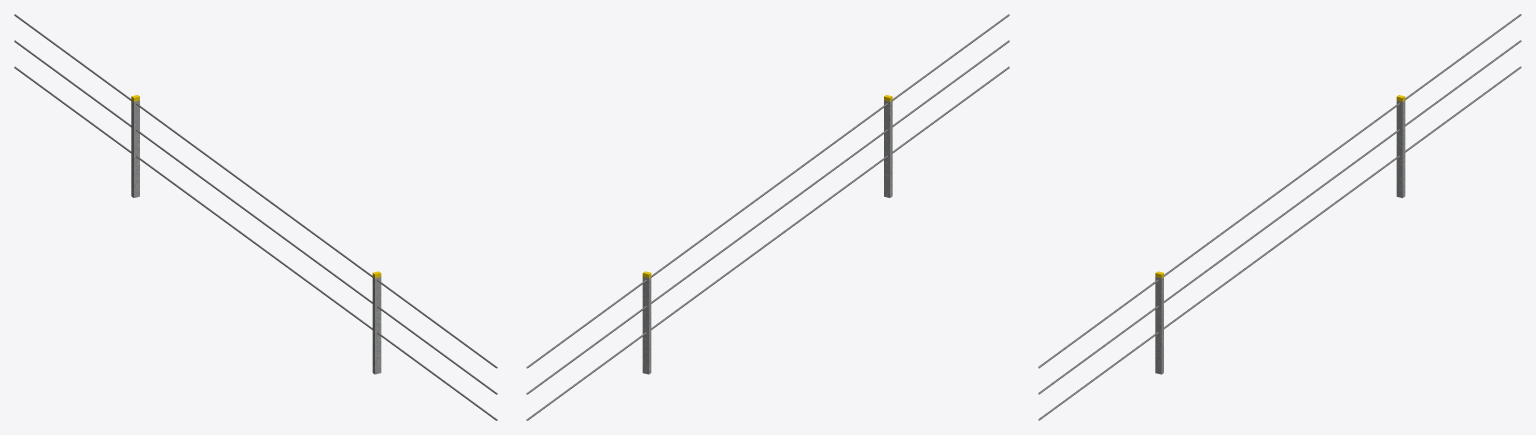
Rendered from GSDCableBarrier-Light.fbx.
The picture shows the model from 3 angles, left to right: view 1: azimuth 30°, elevation 25°; view 2: azimuth 150°, elevation 25°; view 3: azimuth 330°, elevation 25°; orthographic projection.
Visible parts, largest first — view 1: GSDCableBarrier-Light; view 2: GSDCableBarrier-Light; view 3: GSDCableBarrier-Light.
Boxes of the visible parts, left/top/right/bottom form: GSDCableBarrier-Light: left=14, top=14, right=497, bottom=420; GSDCableBarrier-Light: left=526, top=14, right=1009, bottom=420; GSDCableBarrier-Light: left=1038, top=14, right=1521, bottom=420.
Size of the model in its own units: 0.075 by 1.15 by 10.
